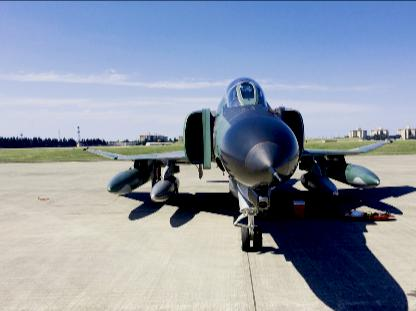F35: (83, 76, 393, 250)
